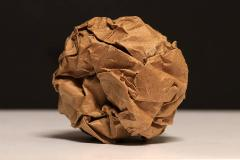paper: (52, 15, 188, 143)
